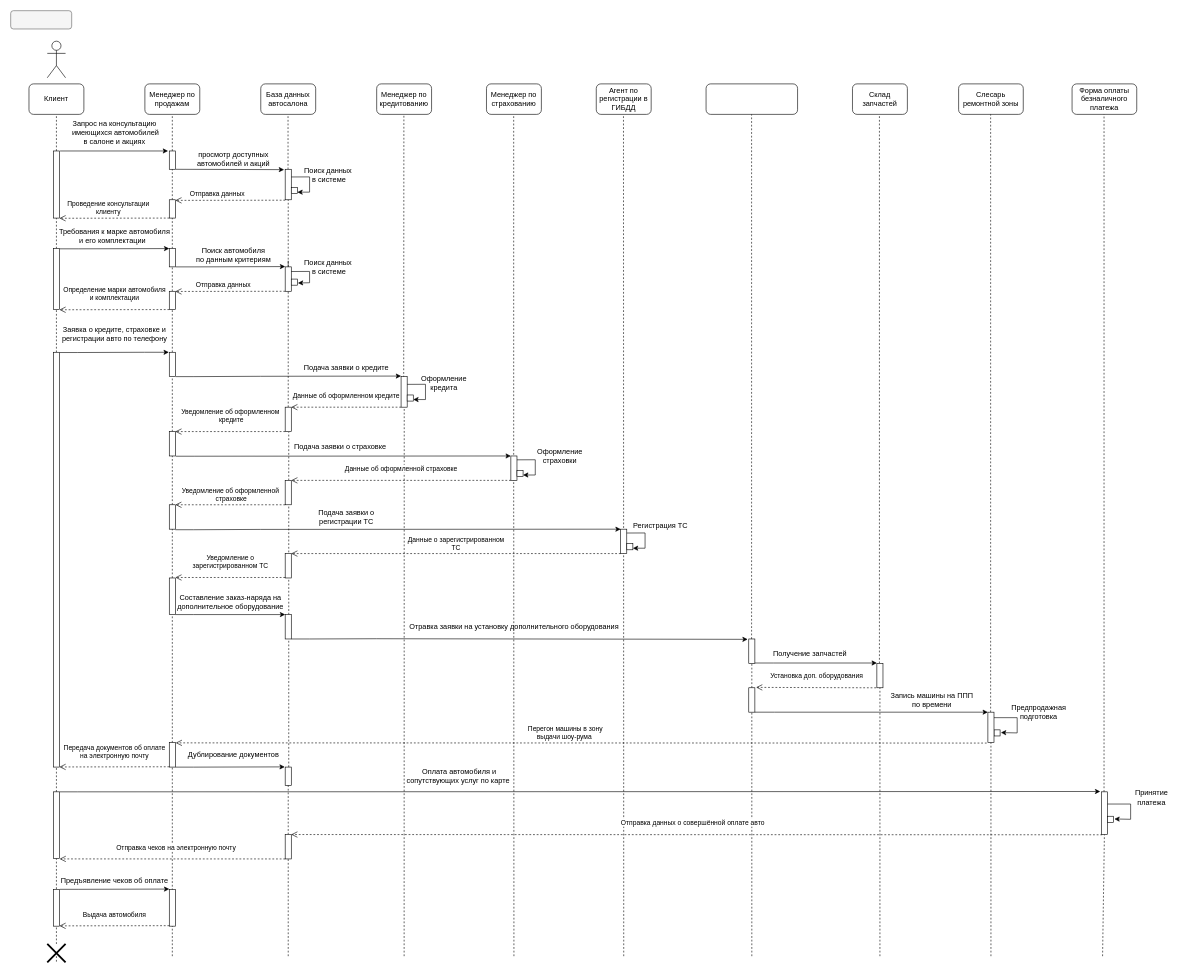
Image size: 1186x974. Some labels were removed from this diagram. Each missing label, with the centre of its shape:
"Автосалон" goes at [41,19].
"Установщик дополннительного оборудования" goes at [751,98].
